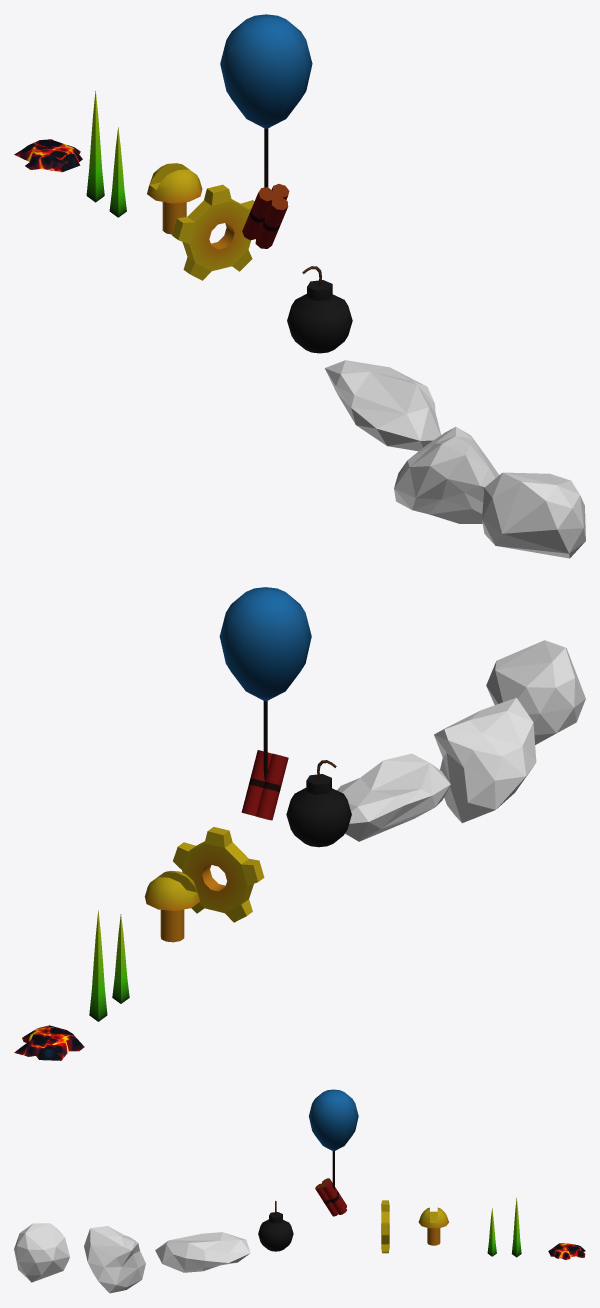
The model's file is Environmentmisc.FBX.
The picture shows the model from 3 angles, top to bottom: view 1: azimuth 30°, elevation 25°; view 2: azimuth 150°, elevation 25°; view 3: azimuth 270°, elevation 25°; orthographic projection. The views are drawn at different scales.
Parts seen in each view (by area): view 1: Enemy_2, Stone_01, Stone_03, Stone_02, Bonus_1, Enemy_1, Bonus_2, FirePlace, GrassMeshBig, GrasMeshLittle; view 2: Enemy_2, Stone_02, Stone_01, Stone_03, Bonus_1, Enemy_1, Bonus_2, FirePlace, GrassMeshBig, GrasMeshLittle; view 3: Enemy_2, Stone_02, Stone_03, Stone_01, Enemy_1, Bonus_2, FirePlace, Bonus_1, GrassMeshBig.
Part boxes in pixels (x1,y1,x2,y2): Enemy_2: (220, 14, 312, 248); Stone_01: (482, 472, 585, 558); Stone_03: (325, 360, 440, 451); Stone_02: (394, 427, 498, 523); Bonus_1: (172, 184, 254, 280); Enemy_1: (287, 266, 352, 353); Bonus_2: (147, 163, 202, 234); FirePlace: (14, 139, 82, 172); GrassMeshBig: (86, 91, 104, 202); GrasMeshLittle: (109, 127, 126, 217); Enemy_2: (219, 587, 311, 820); Stone_02: (434, 697, 536, 823); Stone_01: (486, 640, 585, 744); Stone_03: (337, 753, 450, 841); Bonus_1: (173, 827, 264, 922); Enemy_1: (286, 760, 351, 847); Bonus_2: (144, 871, 199, 942); FirePlace: (14, 1025, 84, 1060); GrassMeshBig: (89, 910, 107, 1021); GrasMeshLittle: (112, 914, 129, 1003); Enemy_2: (309, 1089, 358, 1216); Stone_02: (84, 1226, 145, 1293); Stone_03: (155, 1232, 250, 1272); Stone_01: (14, 1223, 69, 1282); Enemy_1: (258, 1201, 293, 1251); Bonus_2: (418, 1207, 448, 1245); FirePlace: (548, 1243, 585, 1260); Bonus_1: (381, 1200, 389, 1253); GrassMeshBig: (511, 1197, 521, 1257).
Size of the model in its own units: 35.24 by 294 by 112.
